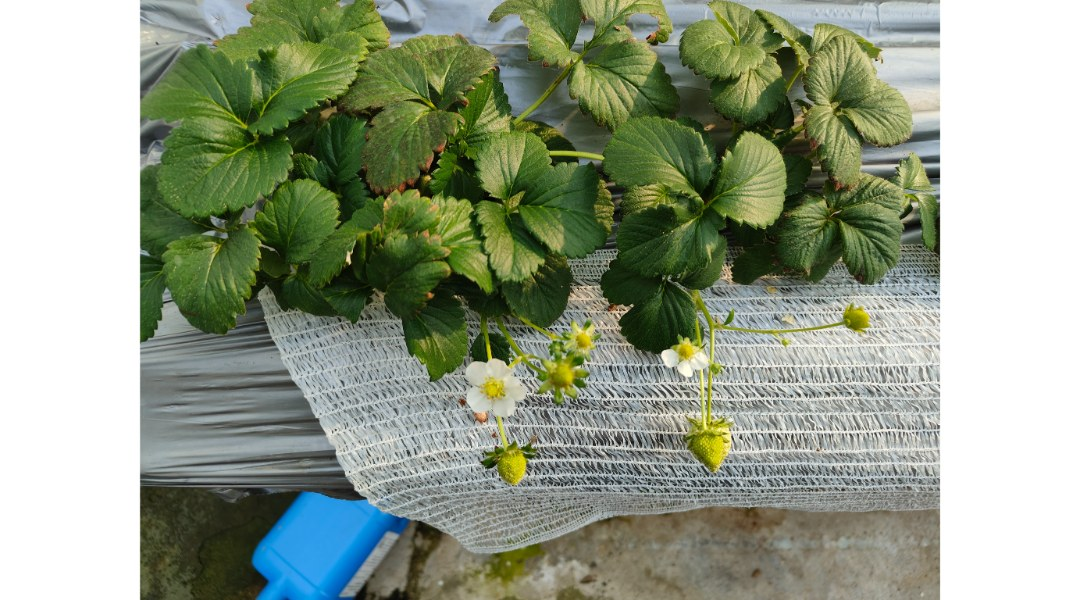berry: (677, 410, 730, 481), (480, 439, 539, 493), (543, 354, 598, 406), (553, 316, 604, 363), (833, 291, 871, 340)
flower: (459, 359, 530, 423), (661, 332, 708, 377)
strain: (729, 317, 819, 341)
